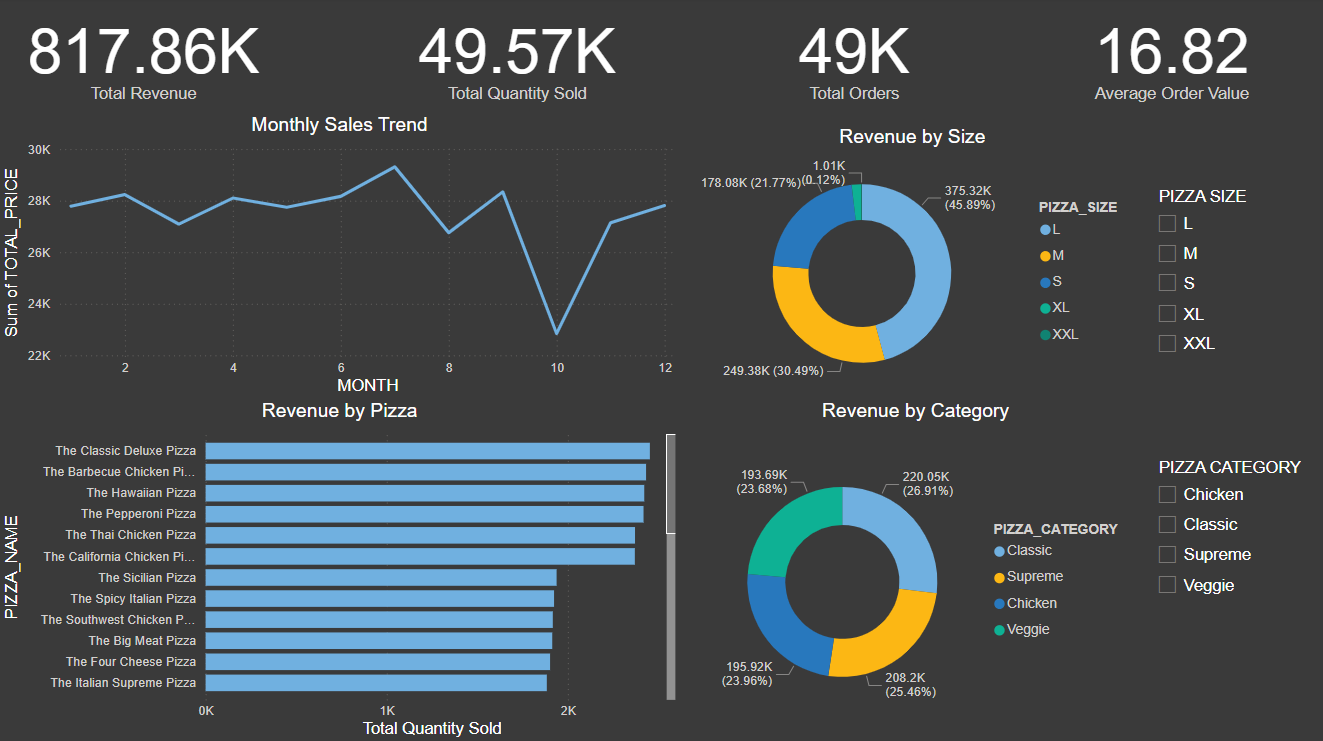

What the dashboard file says about the page in this screenshot:
{"tool":"powerbi","page":{"name":"Page 1","canvas":[1280,720],"ordinal":0},"visuals":[{"type":"card","fields":{"Values":["ORDER_FACT.Total Revenue"]},"box":[0,0,279.3,112],"z":0},{"type":"card","fields":{"Values":["ORDER_FACT.Total Quantity Sold"]},"box":[360.8,0,279.3,112],"z":1},{"type":"card","fields":{"Values":["ORDER_FACT.Total Orders"]},"box":[685.2,0,280.8,112],"z":2},{"type":"card","fields":{"Values":["ORDER_FACT.Average Order Value"]},"box":[1006.2,0,252.1,112.2],"z":3},{"type":"lineChart","title":"Monthly Sales Trend","fields":{"Y":["Sum(ORDER_FACT.TOTAL_PRICE)"],"Category":["DATE_DIM.MONTH"]},"box":[0,112,657.6,276.4],"z":4},{"type":"barChart","title":"Revenue by Pizza","fields":{"Category":["PIZZA_DIM.PIZZA_NAME"],"Y":["ORDER_FACT.Total Quantity Sold"]},"box":[0,388.5,657.6,331.7],"z":6},{"type":"donutChart","title":"Revenue by Category","fields":{"Category":["PIZZA_DIM.PIZZA_CATEGORY"],"Y":["Sum(ORDER_FACT.TOTAL_PRICE)"]},"box":[663.4,388.5,442.3,331.7],"z":7},{"type":"donutChart","title":"Revenue by Size","fields":{"Category":["PIZZA_DIM.PIZZA_SIZE"],"Y":["ORDER_FACT.Total Revenue"]},"box":[657.6,123.7,448.1,264.8],"z":8},{"type":"slicer","fields":{"Values":["PIZZA_DIM.PIZZA_CATEGORY"]},"box":[1105.7,440.8,174.6,165.9],"z":9},{"type":"slicer","fields":{"Values":["PIZZA_DIM.PIZZA_SIZE"]},"box":[1105.7,179,174.6,209.5],"z":10}]}

Visuals, with their boxes in screenshot pixels (x1, y1, x2, y2), scaled from the page's 1280x720 canvas onto the 1323x741 screenshot:
card - ORDER_FACT.Total Revenue: <box>0,0,289,115</box>
card - ORDER_FACT.Total Quantity Sold: <box>373,0,662,115</box>
card - ORDER_FACT.Total Orders: <box>708,0,998,115</box>
card - ORDER_FACT.Average Order Value: <box>1040,0,1301,115</box>
"Monthly Sales Trend" lineChart: <box>0,115,680,400</box>
"Revenue by Pizza" barChart: <box>0,400,680,740</box>
"Revenue by Category" donutChart: <box>686,400,1143,740</box>
"Revenue by Size" donutChart: <box>680,127,1143,400</box>
slicer - PIZZA_DIM.PIZZA_CATEGORY: <box>1143,454,1322,624</box>
slicer - PIZZA_DIM.PIZZA_SIZE: <box>1143,184,1322,400</box>
